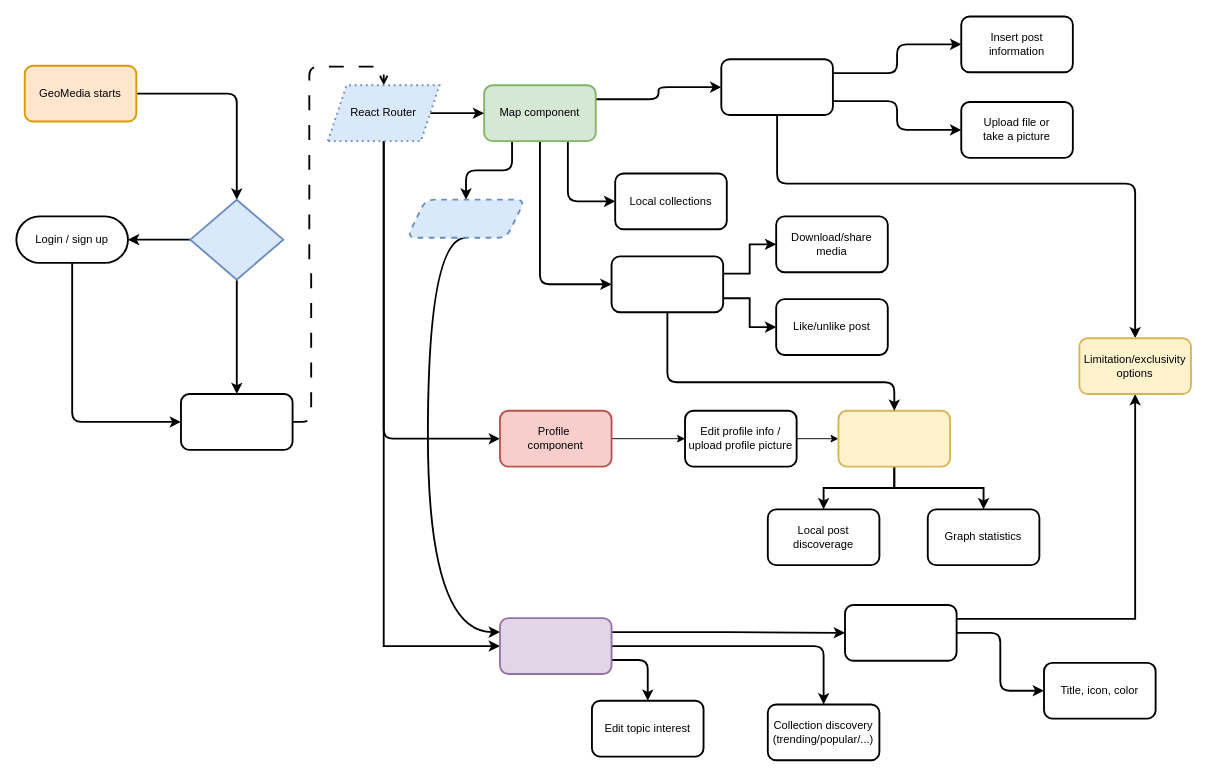
This 1208x777 diagram has some shape labels left out. The centre of each missing label's shape, as x and y in pixels:
"check user auth" goes at pixel 236 239.
"Collection bottomsheet" goes at pixel 466 218.
"Collections component" goes at pixel 555 645.
"Create new collection" goes at pixel 900 632.
"Load profile credentials from secure storage" goes at pixel 236 421.
"New post" goes at pixel 776 87.
"Post viewer" goes at pixel 667 284.
"Profile viewer" goes at pixel 894 438.
